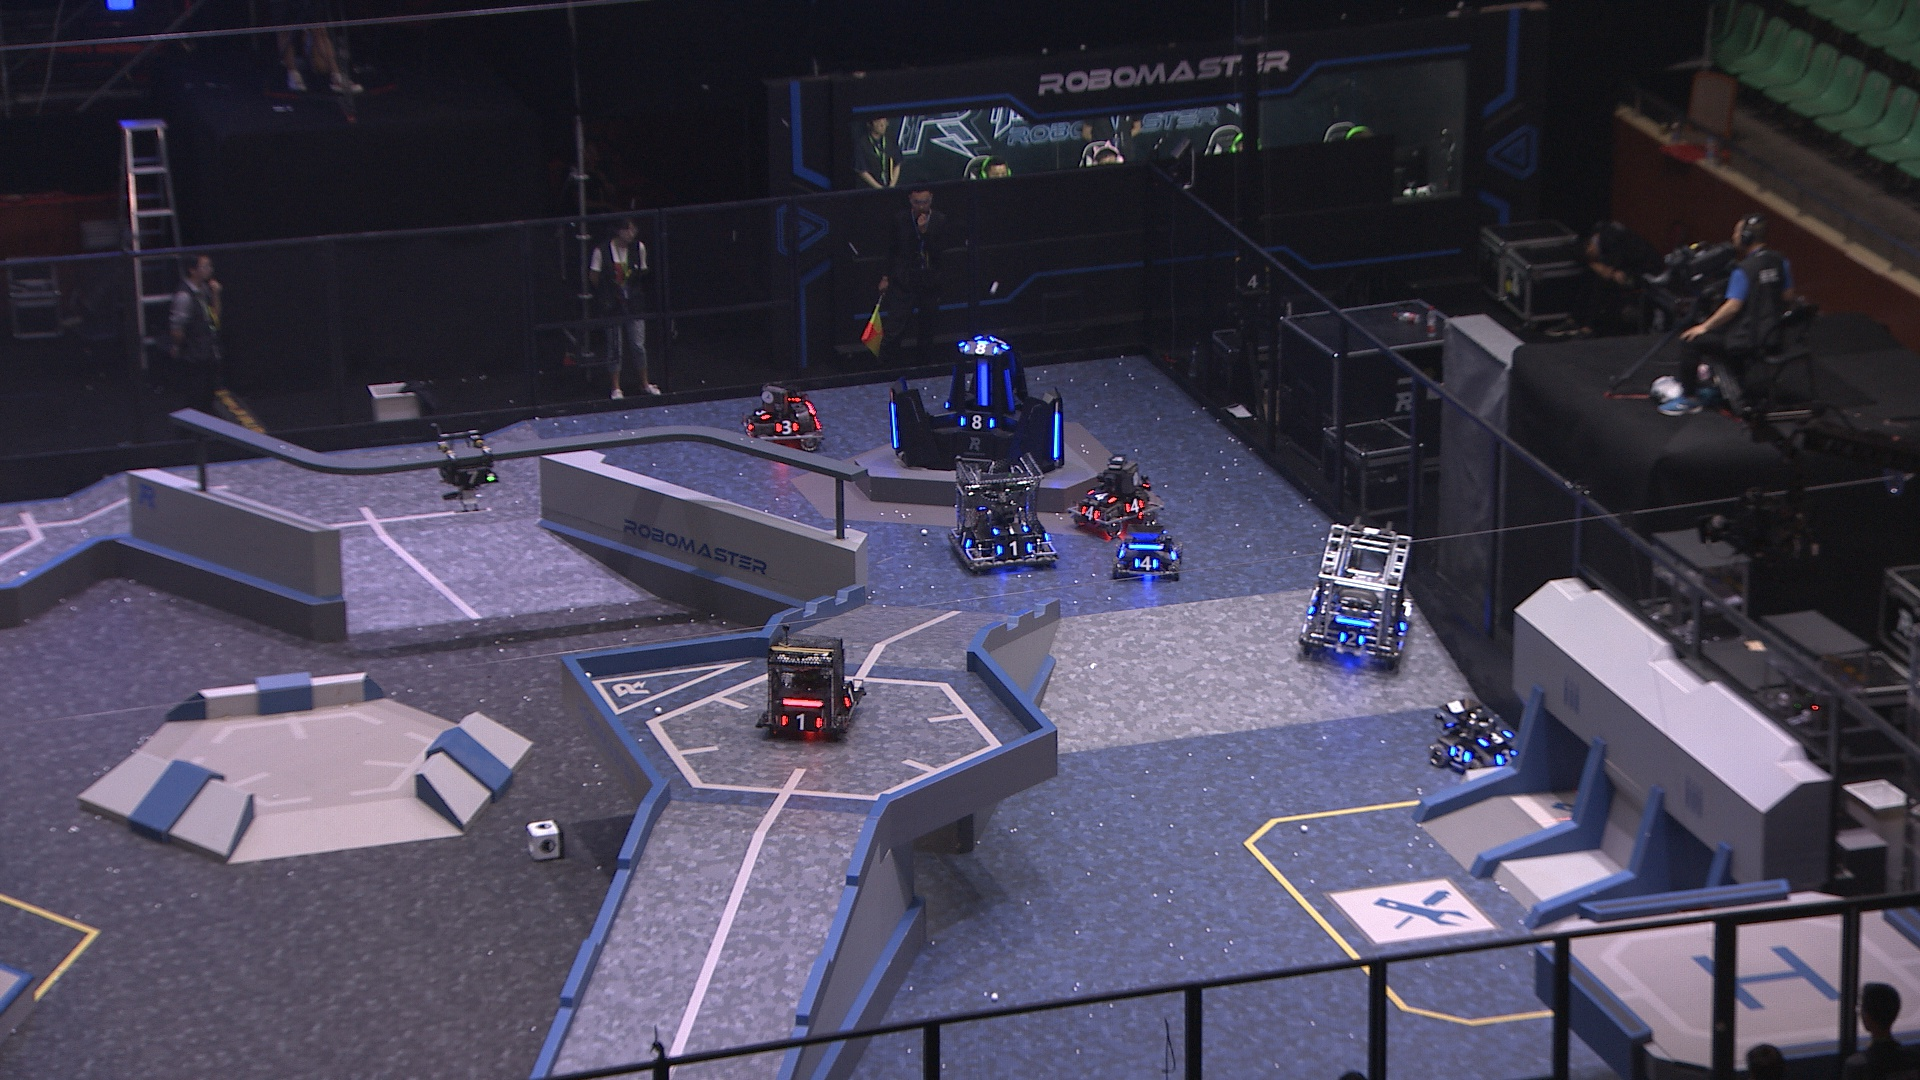armor: (778, 712, 828, 737), (992, 538, 1034, 560), (454, 465, 496, 487), (1477, 727, 1513, 750), (957, 413, 998, 433), (961, 338, 1000, 357), (887, 400, 902, 451), (1335, 628, 1367, 650), (986, 520, 1033, 535), (1048, 407, 1063, 458), (1002, 367, 1019, 409), (1444, 742, 1474, 766), (1122, 496, 1149, 522), (839, 680, 858, 712), (953, 526, 977, 553), (1077, 501, 1105, 524), (1084, 485, 1114, 505), (1491, 749, 1522, 769), (977, 363, 992, 404), (1130, 553, 1159, 572), (773, 417, 799, 438), (750, 404, 771, 423)
base: (884, 330, 1065, 473)
car: (1295, 517, 1415, 669), (942, 454, 1067, 574), (756, 628, 868, 738), (1422, 700, 1528, 782), (1068, 452, 1163, 537), (737, 376, 825, 458), (1112, 516, 1187, 580)
watcher: (433, 427, 500, 514)
